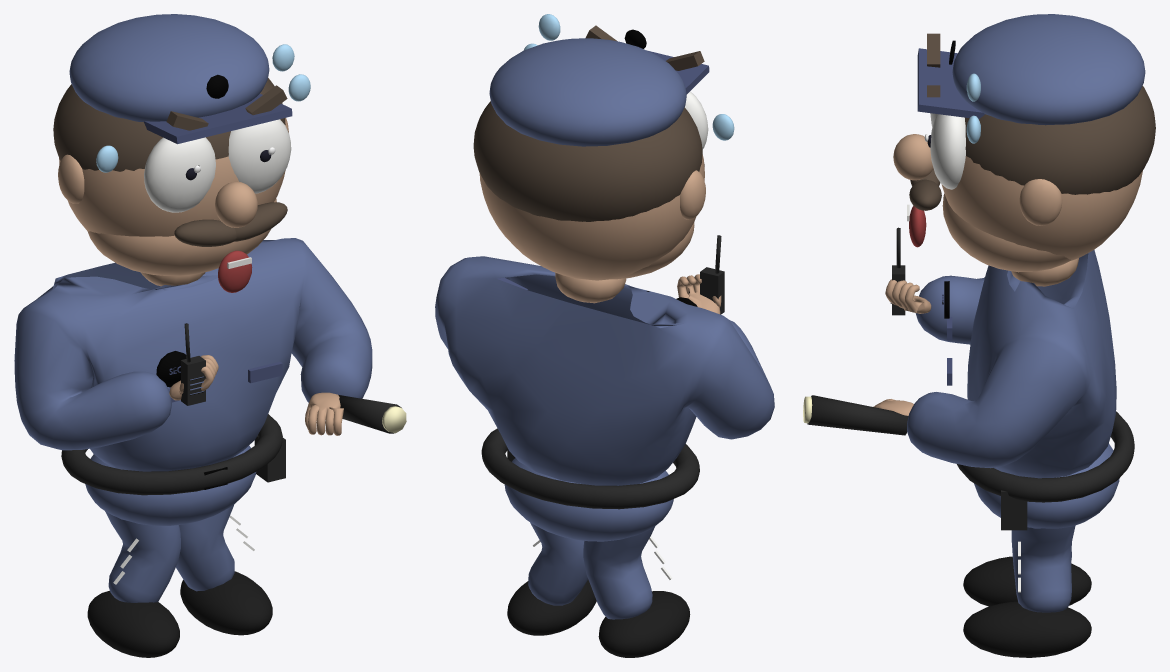
Rendered from SecurityGuard.fbx.
The picture shows the model from 3 angles, left to right: view 1: azimuth 30°, elevation 25°; view 2: azimuth 150°, elevation 25°; view 3: azimuth 270°, elevation 25°; orthographic projection.
Parts seen in each view (by area): view 1: SecurityGuard.001; view 2: SecurityGuard.001; view 3: SecurityGuard.001.
Part boxes in pixels (<box>): SecurityGuard.001: <box>14,14,406,657</box>; SecurityGuard.001: <box>435,14,774,657</box>; SecurityGuard.001: <box>803,14,1155,657</box>.
Bounding box in the file's own units: 144 × 246 × 132.
Materials: 1 (1 with a texture image).
